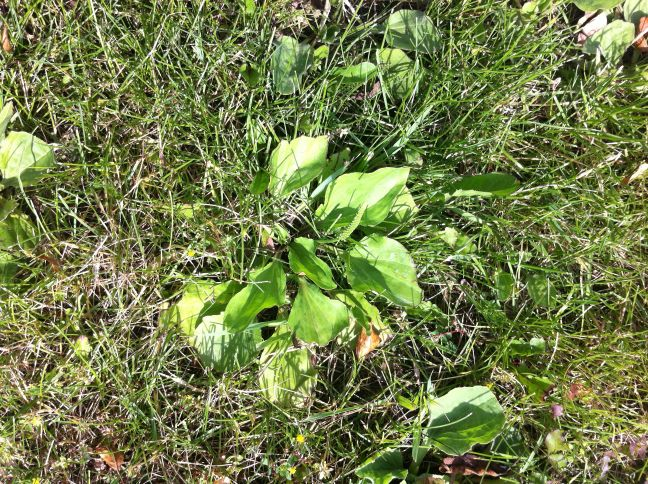weed1: (158, 128, 435, 413), (261, 5, 441, 105), (411, 375, 513, 465), (2, 126, 57, 284)
